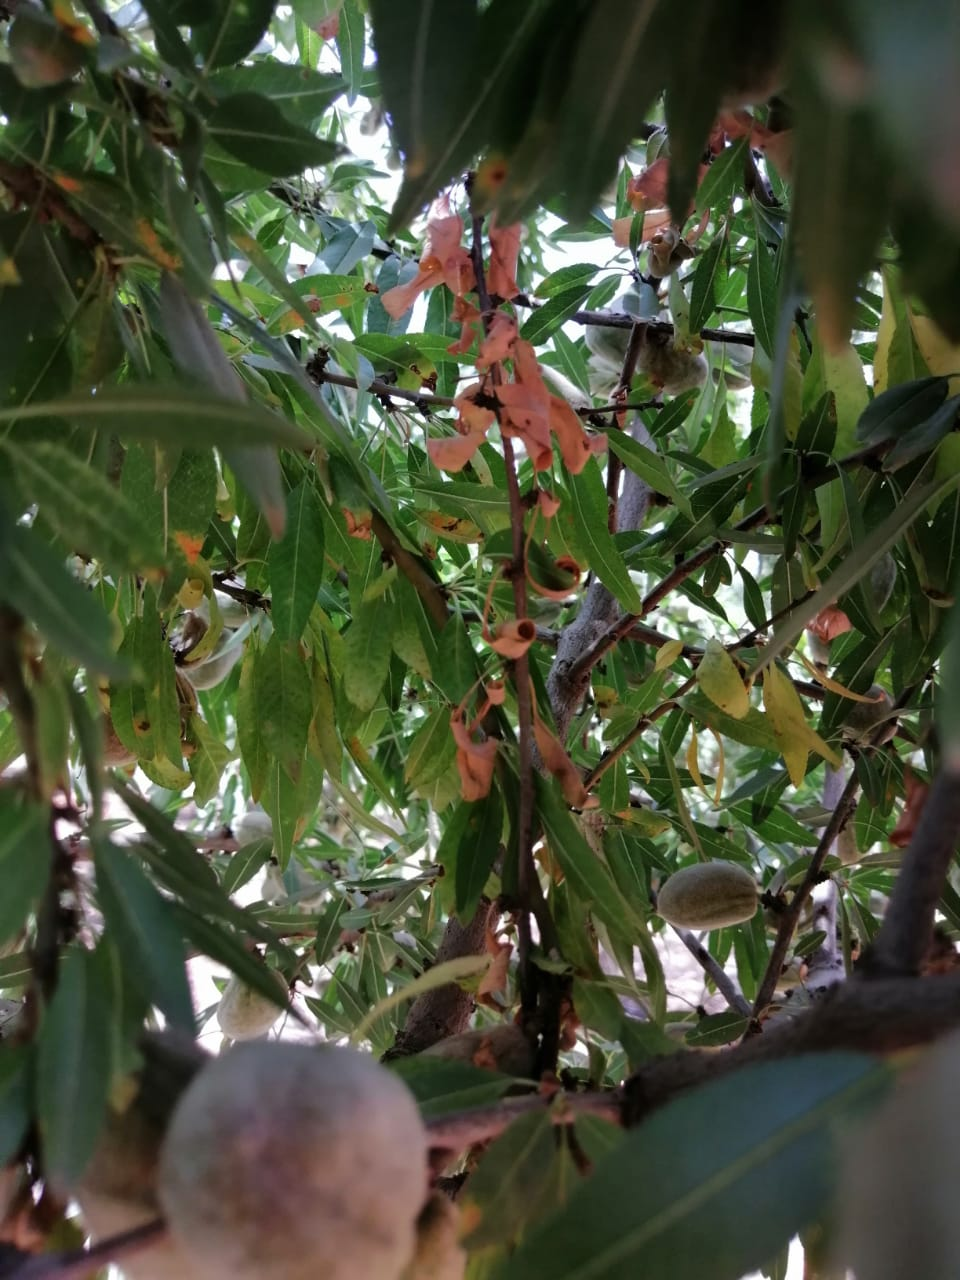chancre fusicocum: (383, 185, 610, 1007)
